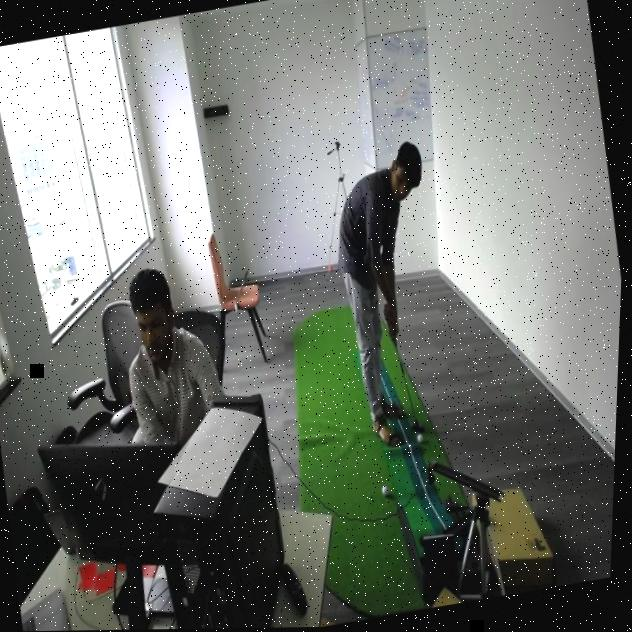GolfBall: (380, 476, 398, 504), (412, 433, 430, 448)
